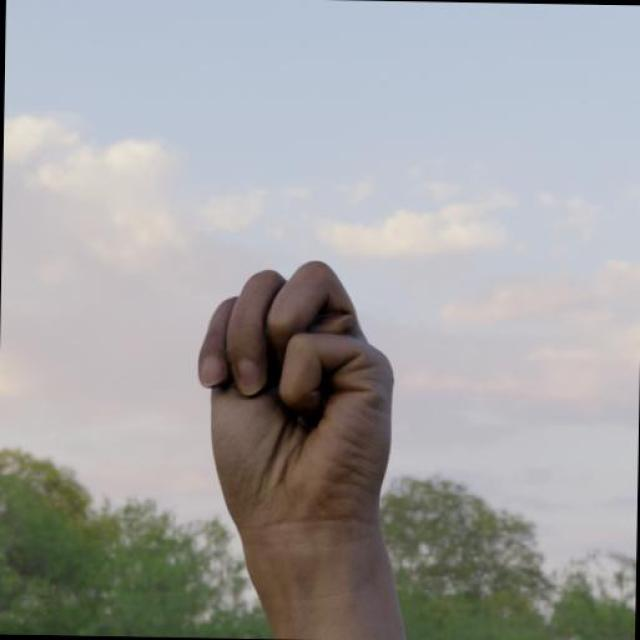M: (195, 255, 398, 527)
